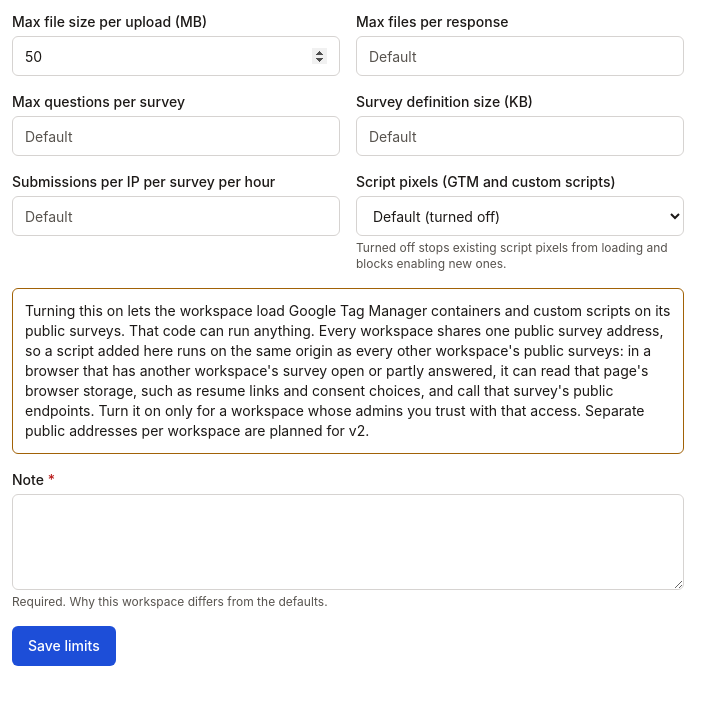
Test case: LimitsEditor › prefills overrides and submits the kill switch with a note
The image size is (705, 711).
Expected: the number field labelled "Max file size per upload (MB)" holds "50", [12, 36, 340, 76]
Select "Turned off (kill switch)" in the dropdown labelled "Script pixels (GTM and custom scripts)": (520, 216) [356, 196, 684, 236]
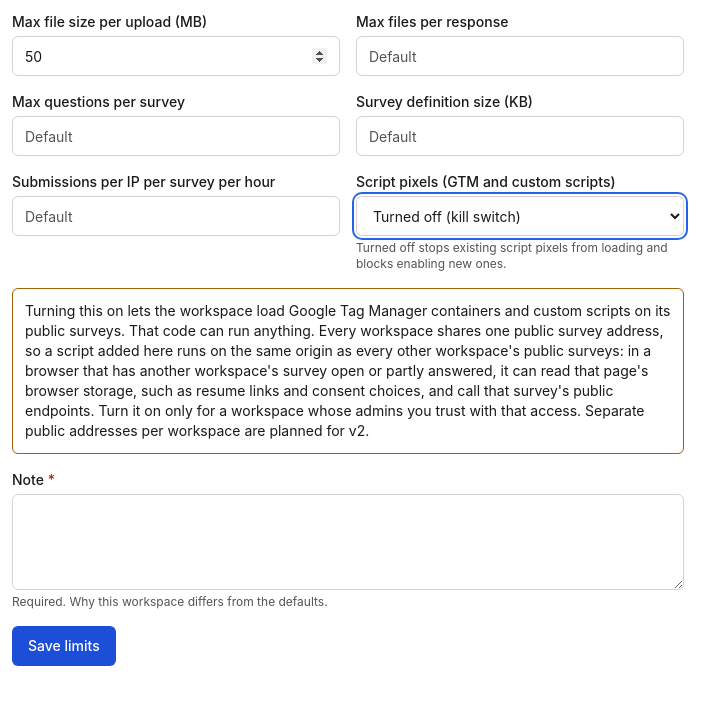
In the text box labelled "Note *": (348, 542) [12, 494, 684, 590], type "Vendor incident"
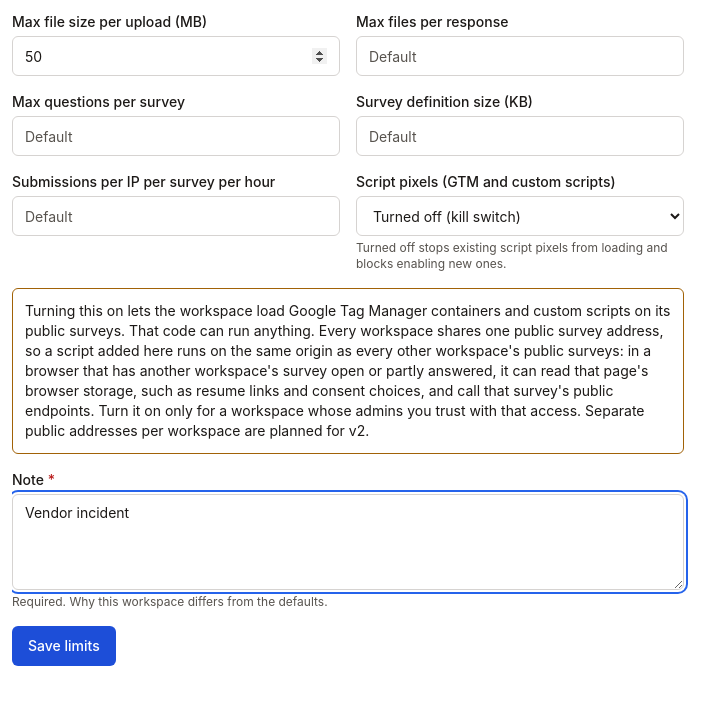
Click the button "Save limits": (64, 646) [12, 626, 116, 666]
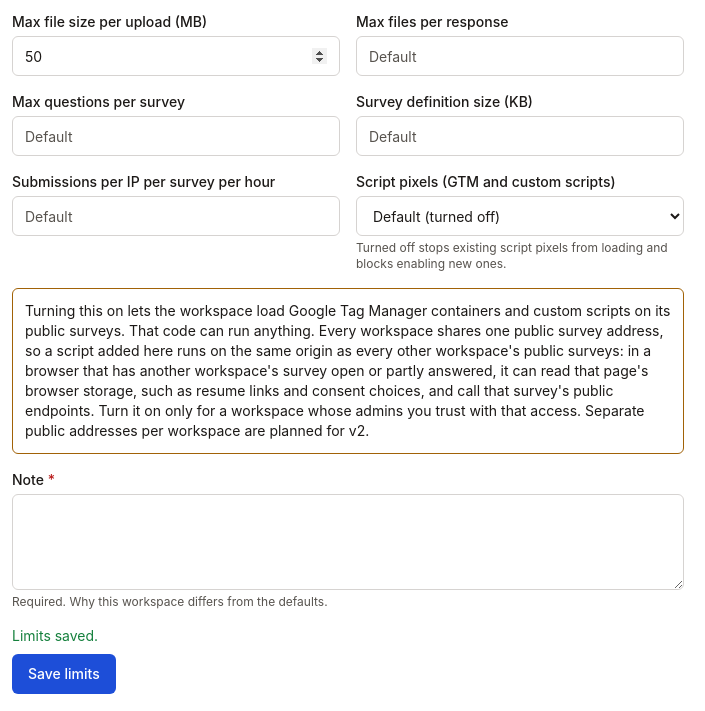
Expected: the message reads "Limits saved.", [12, 627, 98, 644]
